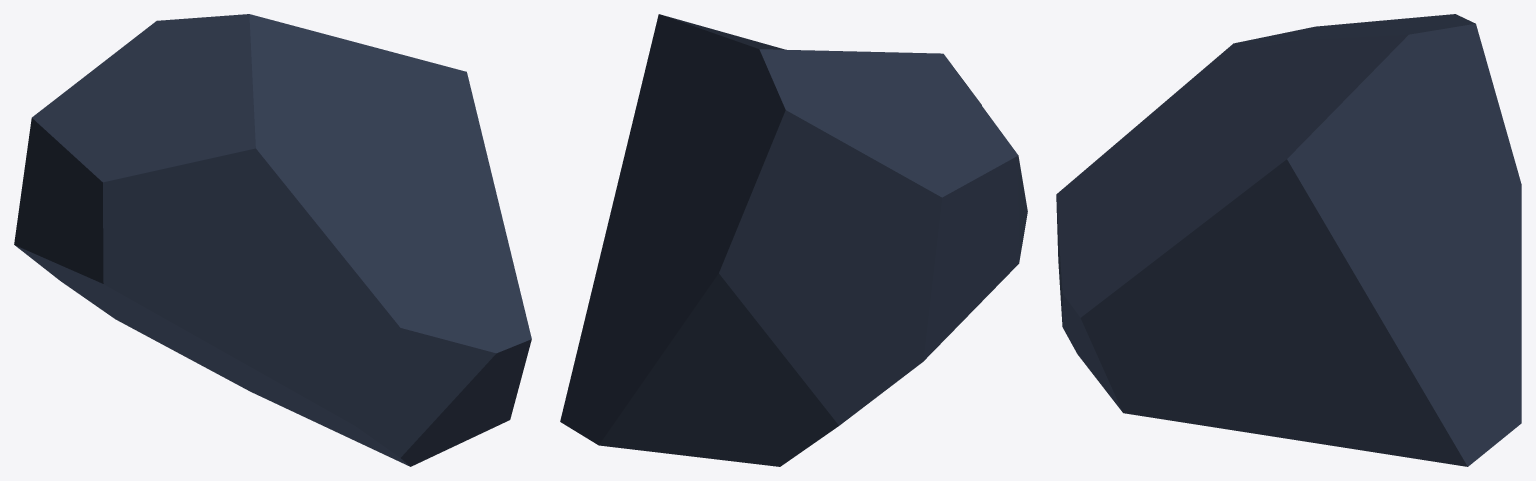
The model's file is Coal A.fbx.
3 renders of one model, left to right at view 1: azimuth 30°, elevation 25°; view 2: azimuth 150°, elevation 25°; view 3: azimuth 270°, elevation 25°, orthographic. The views are drawn at different scales.
Parts seen in each view (by area): view 1: Coal A; view 2: Coal A; view 3: Coal A.
Part boxes in pixels (<box>): Coal A: <box>14,14,531,466</box>; Coal A: <box>560,14,1027,466</box>; Coal A: <box>1056,14,1521,466</box>.
Size of the model in its own units: 125 by 124 by 147.
